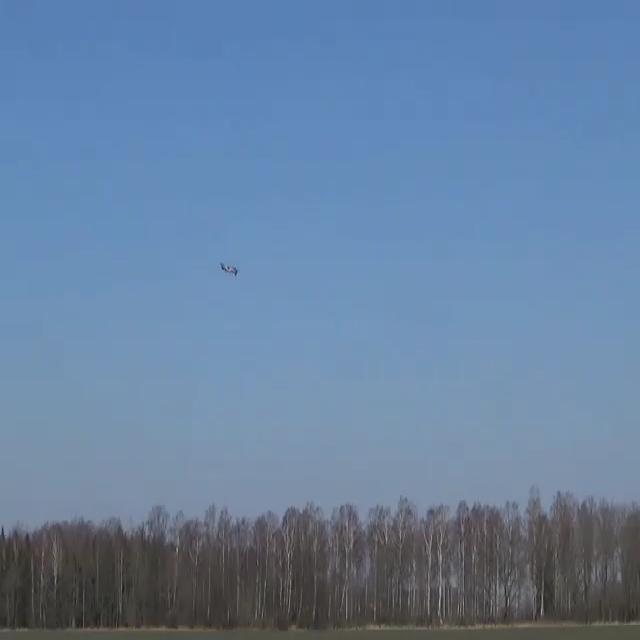Drone: (214, 252, 246, 284)
